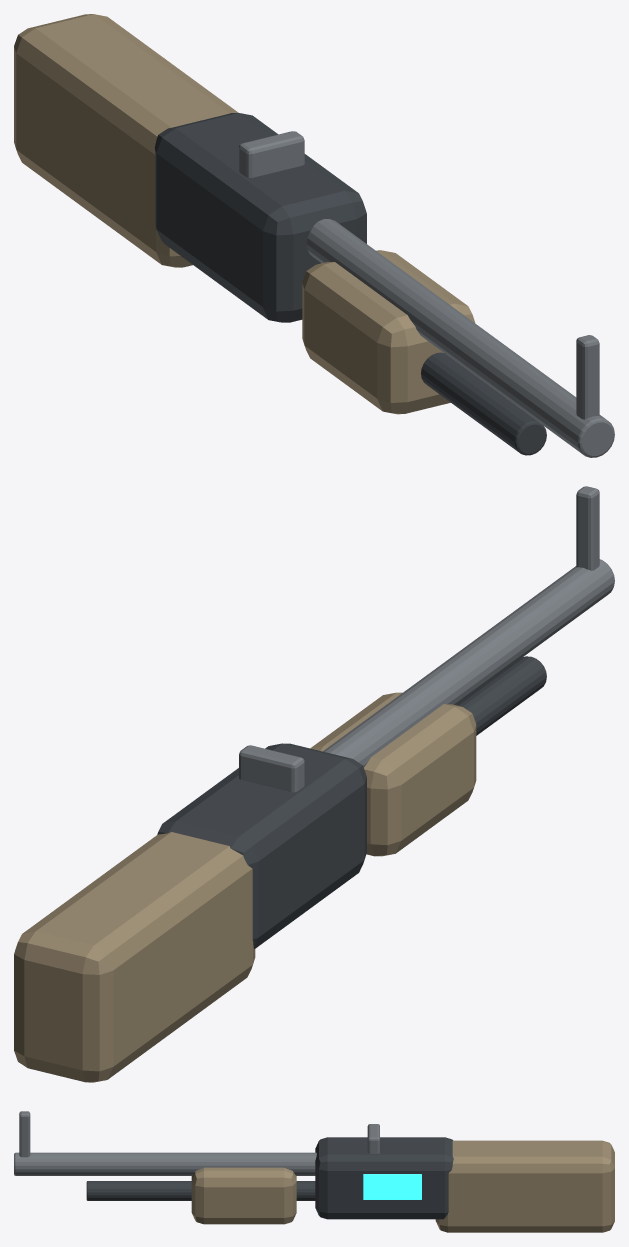
Rendered from nova_shotgun.glb.
3 renders of one model, top to bottom at view 1: azimuth 30°, elevation 25°; view 2: azimuth 150°, elevation 25°; view 3: azimuth 270°, elevation 25°, orthographic. The views are drawn at different scales.
Visible parts, largest first — view 1: Stock, Receiver.006, Pump, Barrel.006, Tube magazine, Rear sight.004, Front sight.004; view 2: Stock, Receiver.006, Pump, Barrel.006, Tube magazine, Rear sight.004, Front sight.004; view 3: Stock, Receiver.006, Barrel.006, Pump, Tube magazine, Shell port, Front sight.004, Rear sight.004.
Part boxes in pixels (box(x1,y1,x2,y2)): Stock: box(14, 14, 238, 267); Receiver.006: box(154, 113, 366, 322); Pump: box(302, 250, 475, 414); Barrel.006: box(306, 219, 614, 457); Tube magazine: box(421, 352, 546, 455); Rear sight.004: box(239, 131, 304, 177); Front sight.004: box(576, 335, 599, 419); Stock: box(14, 832, 255, 1082); Receiver.006: box(157, 743, 366, 948); Pump: box(310, 692, 476, 856); Barrel.006: box(323, 559, 614, 767); Tube magazine: box(457, 656, 546, 735); Rear sight.004: box(239, 745, 304, 792); Front sight.004: box(576, 486, 599, 570); Stock: box(435, 1140, 614, 1232); Receiver.006: box(315, 1137, 453, 1219); Barrel.006: box(14, 1152, 316, 1175); Pump: box(191, 1167, 296, 1224); Tube magazine: box(86, 1181, 315, 1200); Shell port: box(363, 1174, 421, 1199); Front sight.004: box(19, 1111, 30, 1157); Rear sight.004: box(367, 1124, 379, 1153).
Size of the model in its own units: 0.219 by 0.4 by 1.94.
